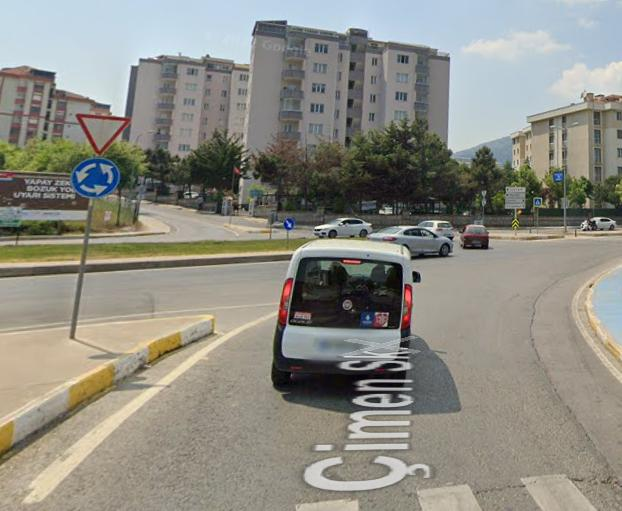crossroads: (73, 158, 118, 196)
